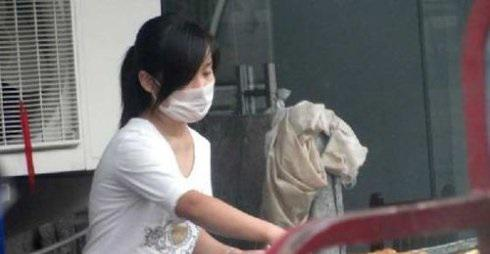OK: (156, 60, 219, 123)
